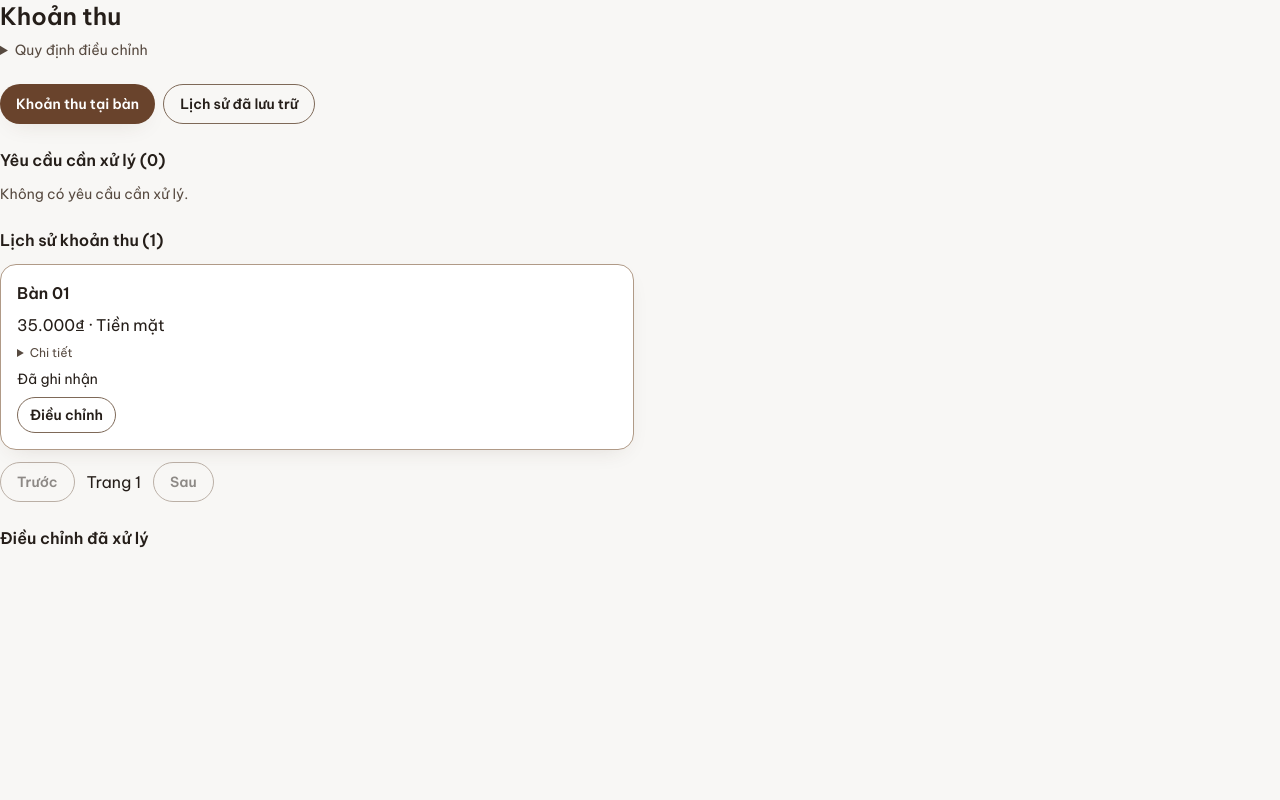
accounts, toppings and compact receipts › requires an explicit admin confirmation and reason, then applies directly instead of queuing
The width and height of the screenshot is (1280, 800).
Click the button "Điều chỉnh".
click(66, 415)  # box [17,397,116,433]
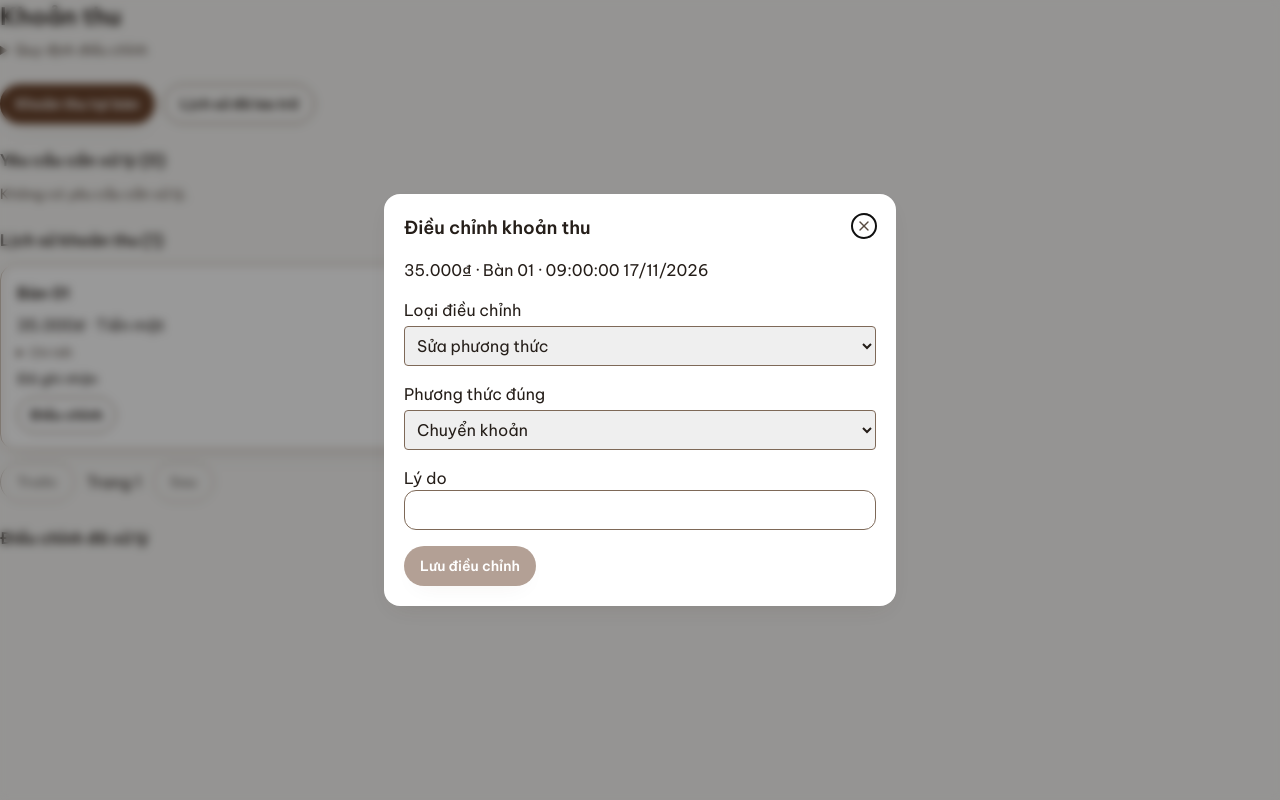
Now the button "Lưu điều chỉnh" is disabled, box [404,546,536,586]
Type "Đã kiểm tra chuyển khoản" into the field labelled "Lý do".
click(640, 510); type("Đã kiểm tra chuyển khoản")  # box [404,490,876,530]
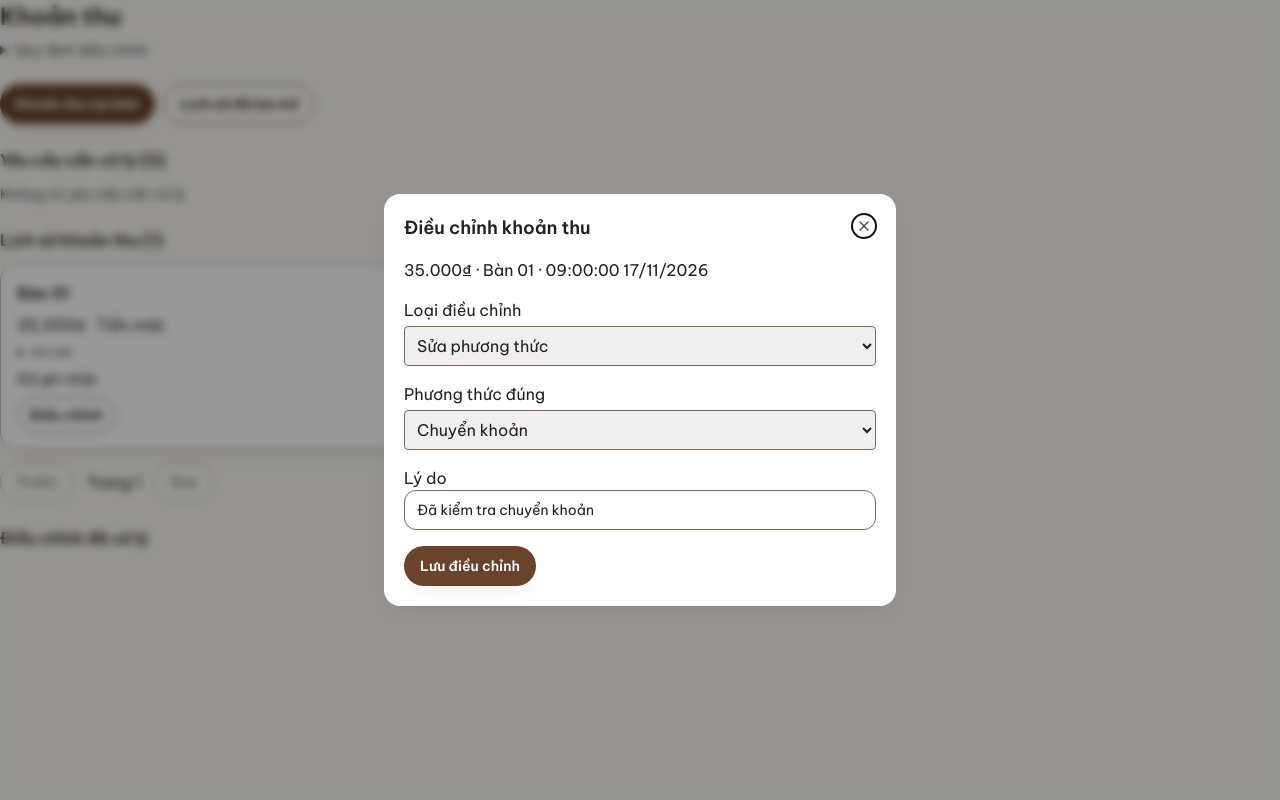
Now the button "Lưu điều chỉnh" is enabled
Click the button "Lưu điều chỉnh".
click(470, 566)  # box [404,546,536,586]
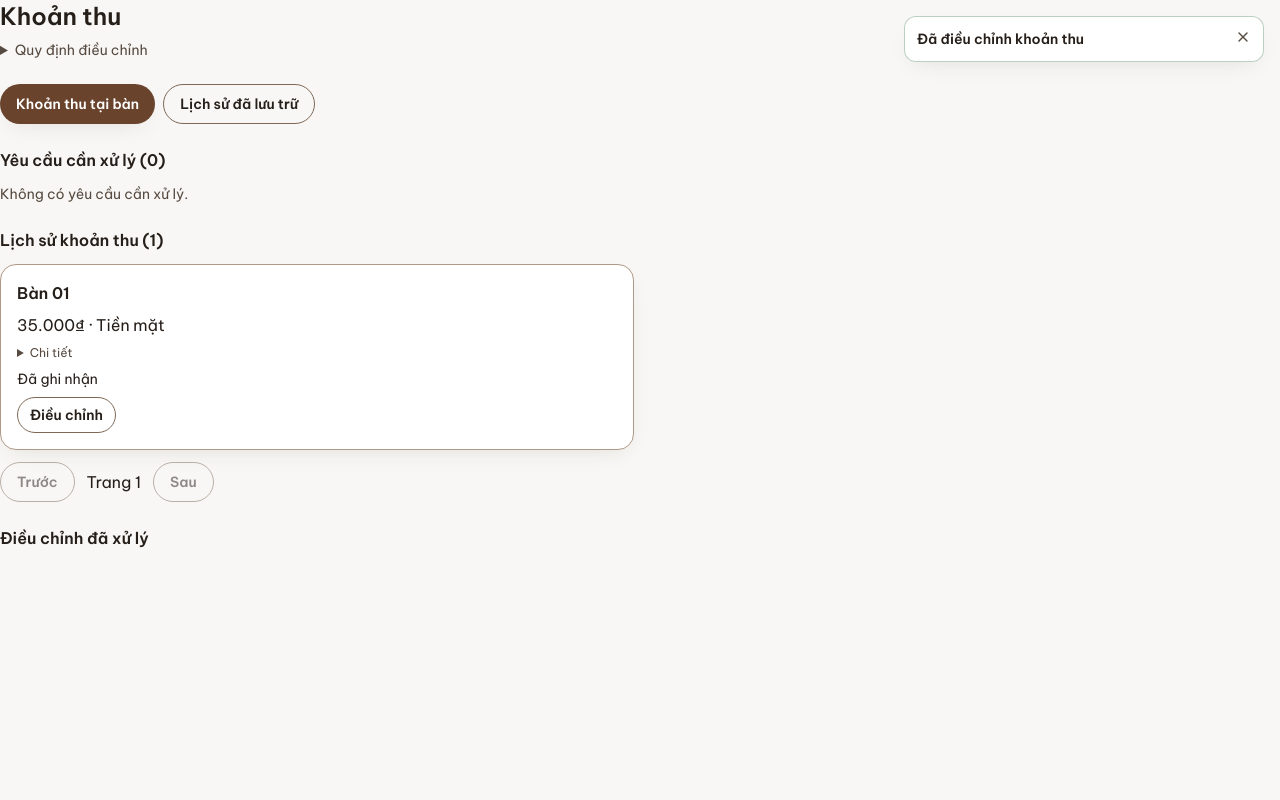
Now the text "Đã điều chỉnh khoản thu" is shown, box [917,30,1084,48]
Now the dialog is gone
